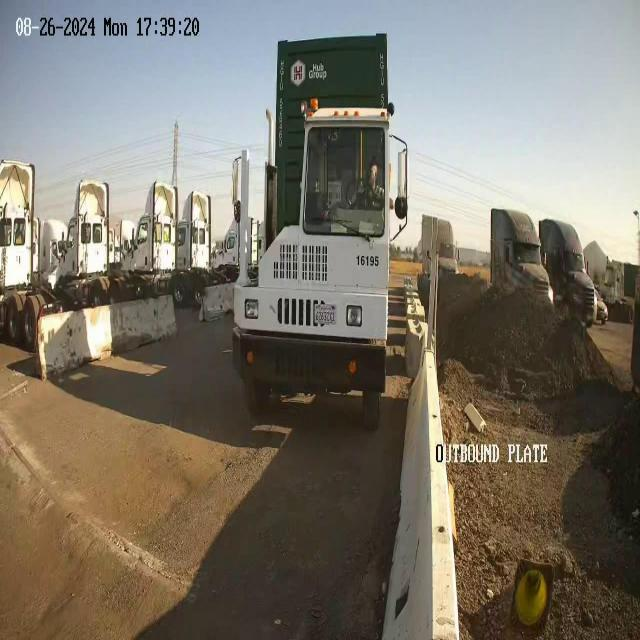TRUCK_OUT: (230, 31, 408, 429)
